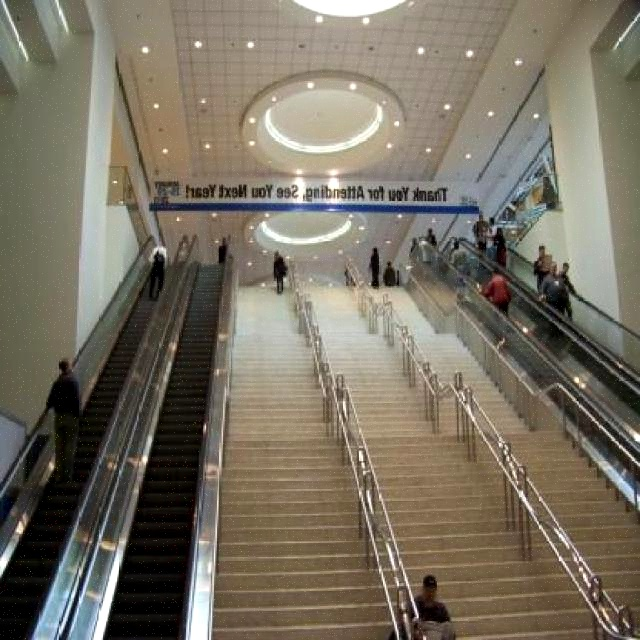stair: (0, 234, 640, 640)
